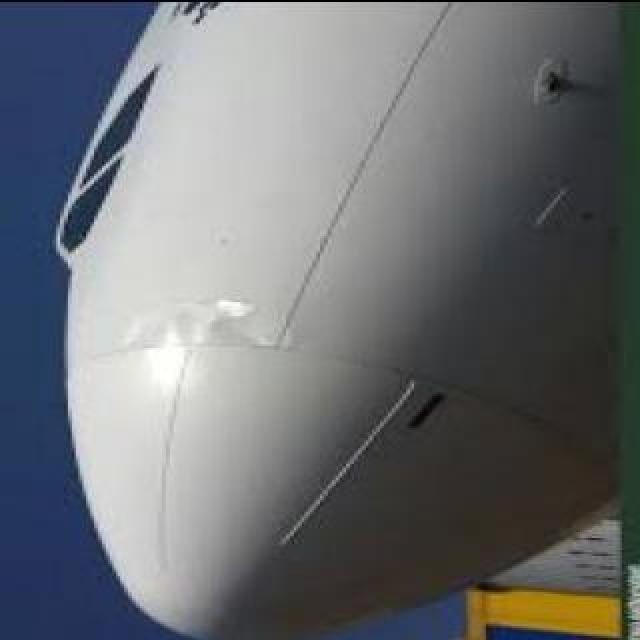dent: (127, 297, 253, 349)
